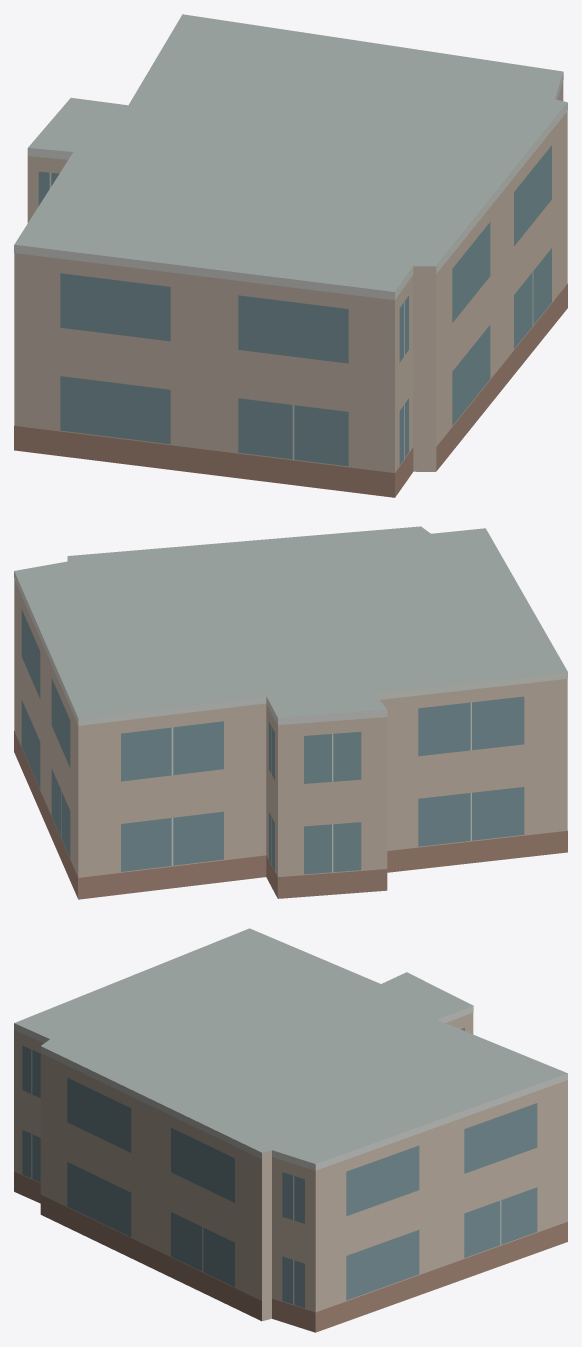
The model's file is survey-upis-32625312.glb.
3 views of the same model, one above another, from view 1: azimuth 30°, elevation 25°; view 2: azimuth 150°, elevation 25°; view 3: azimuth 270°, elevation 25° (orthographic). The views are drawn at different scales.
Visible parts, largest first — view 1: survey-upis-32625312.tmp; view 2: survey-upis-32625312.tmp; view 3: survey-upis-32625312.tmp.
Boxes of the visible parts, x1,y1,x2,y2 form: survey-upis-32625312.tmp: (14,14,567,497); survey-upis-32625312.tmp: (14,526,567,899); survey-upis-32625312.tmp: (14,928,567,1332).
Bounding box in the file's own units: 18.31 × 6.1 × 18.17.
